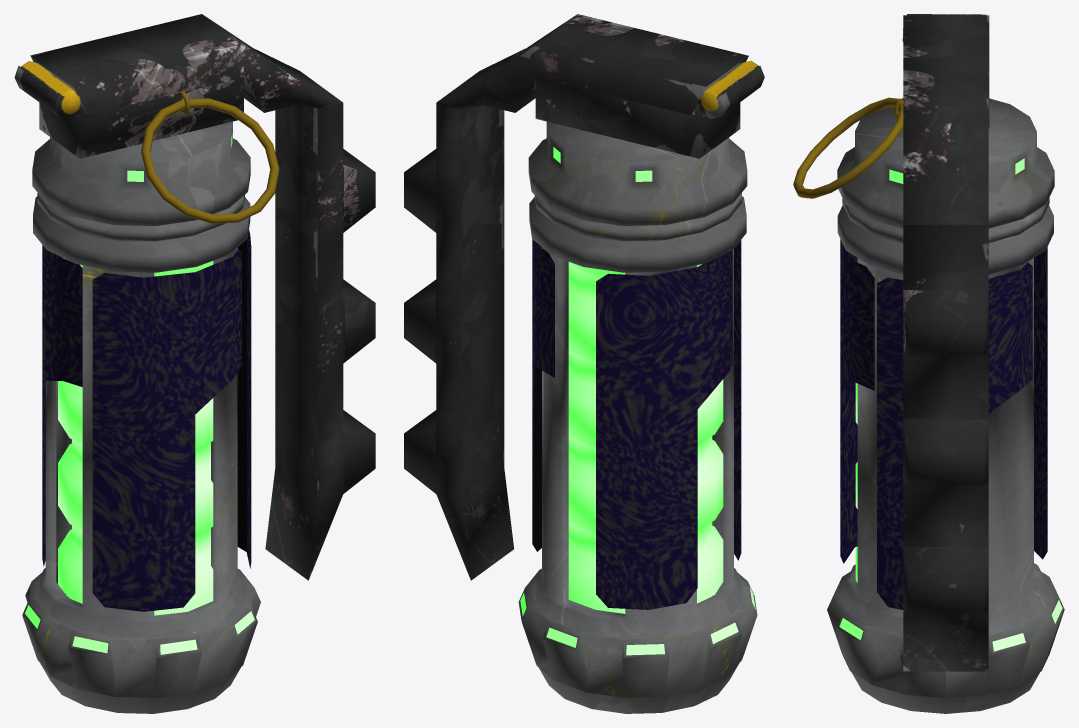
The model's file is cyber_punk_grenade__game_ready.glb.
3 renders of one model, left to right at view 1: azimuth 30°, elevation 25°; view 2: azimuth 150°, elevation 25°; view 3: azimuth 270°, elevation 25°, orthographic.
Visible parts, largest first — view 1: Core.002, Core, Core.003, Core.005, Core.004; view 2: Core.002, Core, Core.003, Core.005; view 3: Core.002, Core, Core.003, Core.004.
Boxes of the visible parts, x1=… form: Core.002: x1=14, y1=14, x2=375, y2=580; Core: x1=22, y1=121, x2=260, y2=713; Core.003: x1=42, y1=230, x2=251, y2=611; Core.005: x1=58, y1=259, x2=213, y2=615; Core.004: x1=141, y1=91, x2=279, y2=223; Core.002: x1=404, y1=14, x2=764, y2=580; Core: x1=518, y1=121, x2=757, y2=713; Core.003: x1=532, y1=239, x2=741, y2=609; Core.005: x1=568, y1=262, x2=723, y2=613; Core.002: x1=902, y1=14, x2=989, y2=671; Core: x1=827, y1=98, x2=1064, y2=713; Core.003: x1=840, y1=239, x2=1047, y2=609; Core.004: x1=793, y1=97, x2=903, y2=198.
Size of the model in its own units: 3.84 by 7.13 by 2.84.
5 materials, 3 textured.
